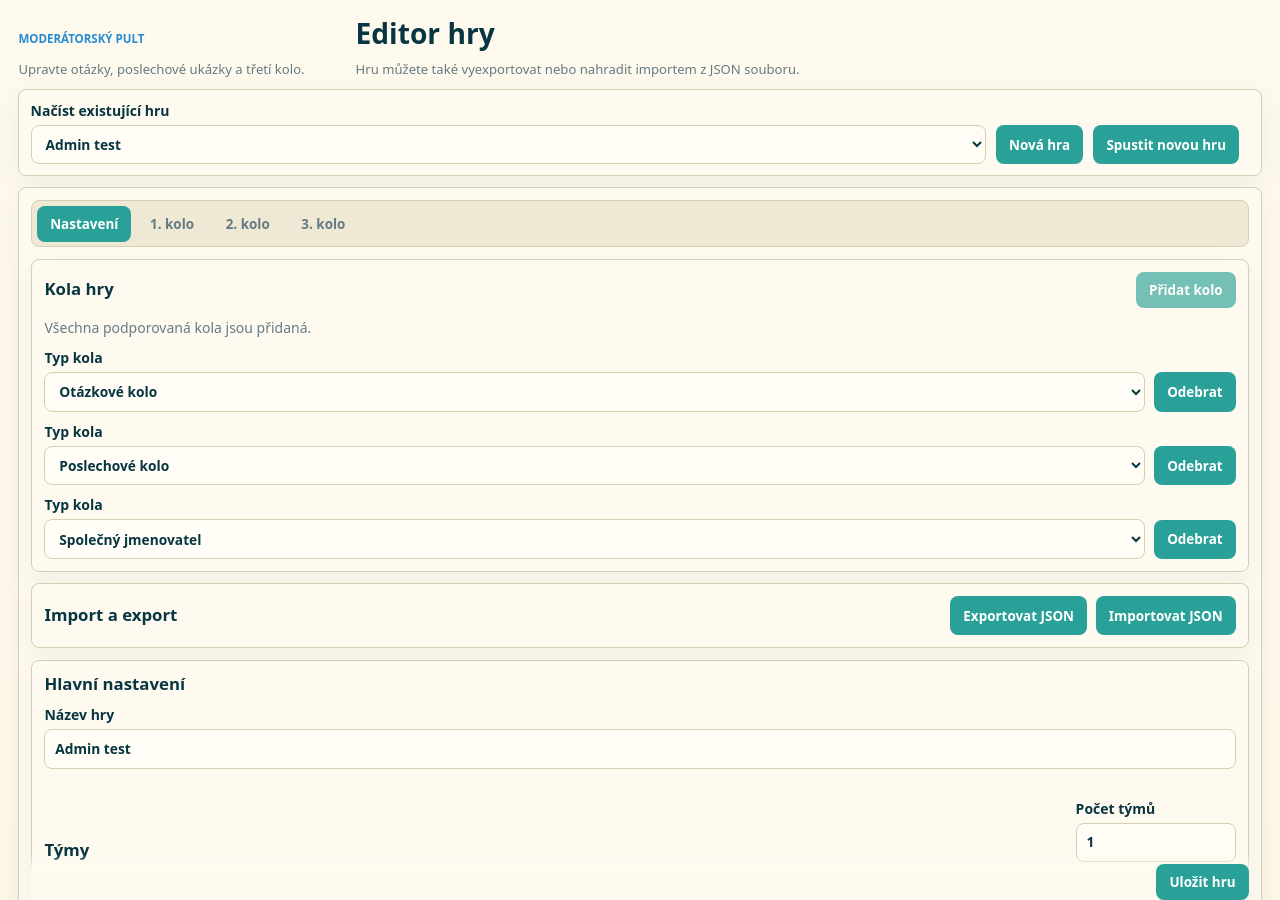
it: AdminPage › u nové neuložené hry nechá spuštění testu vypnuté
The image size is (1280, 900).
Click the button "Nová hra": x=1040, y=145 [996,125,1083,164]
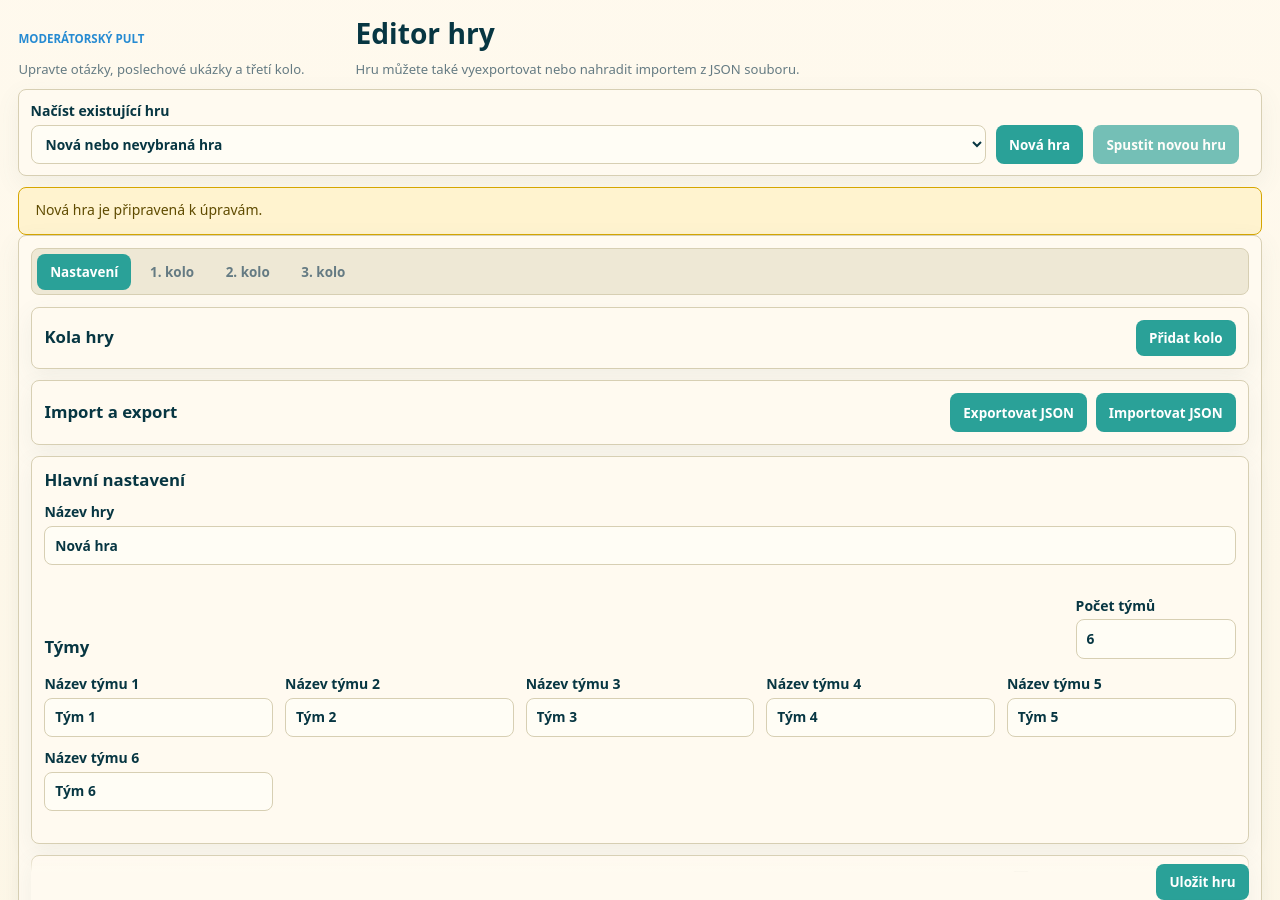
Result: the button "Spustit novou hru" is disabled at [1093,125,1239,164]
